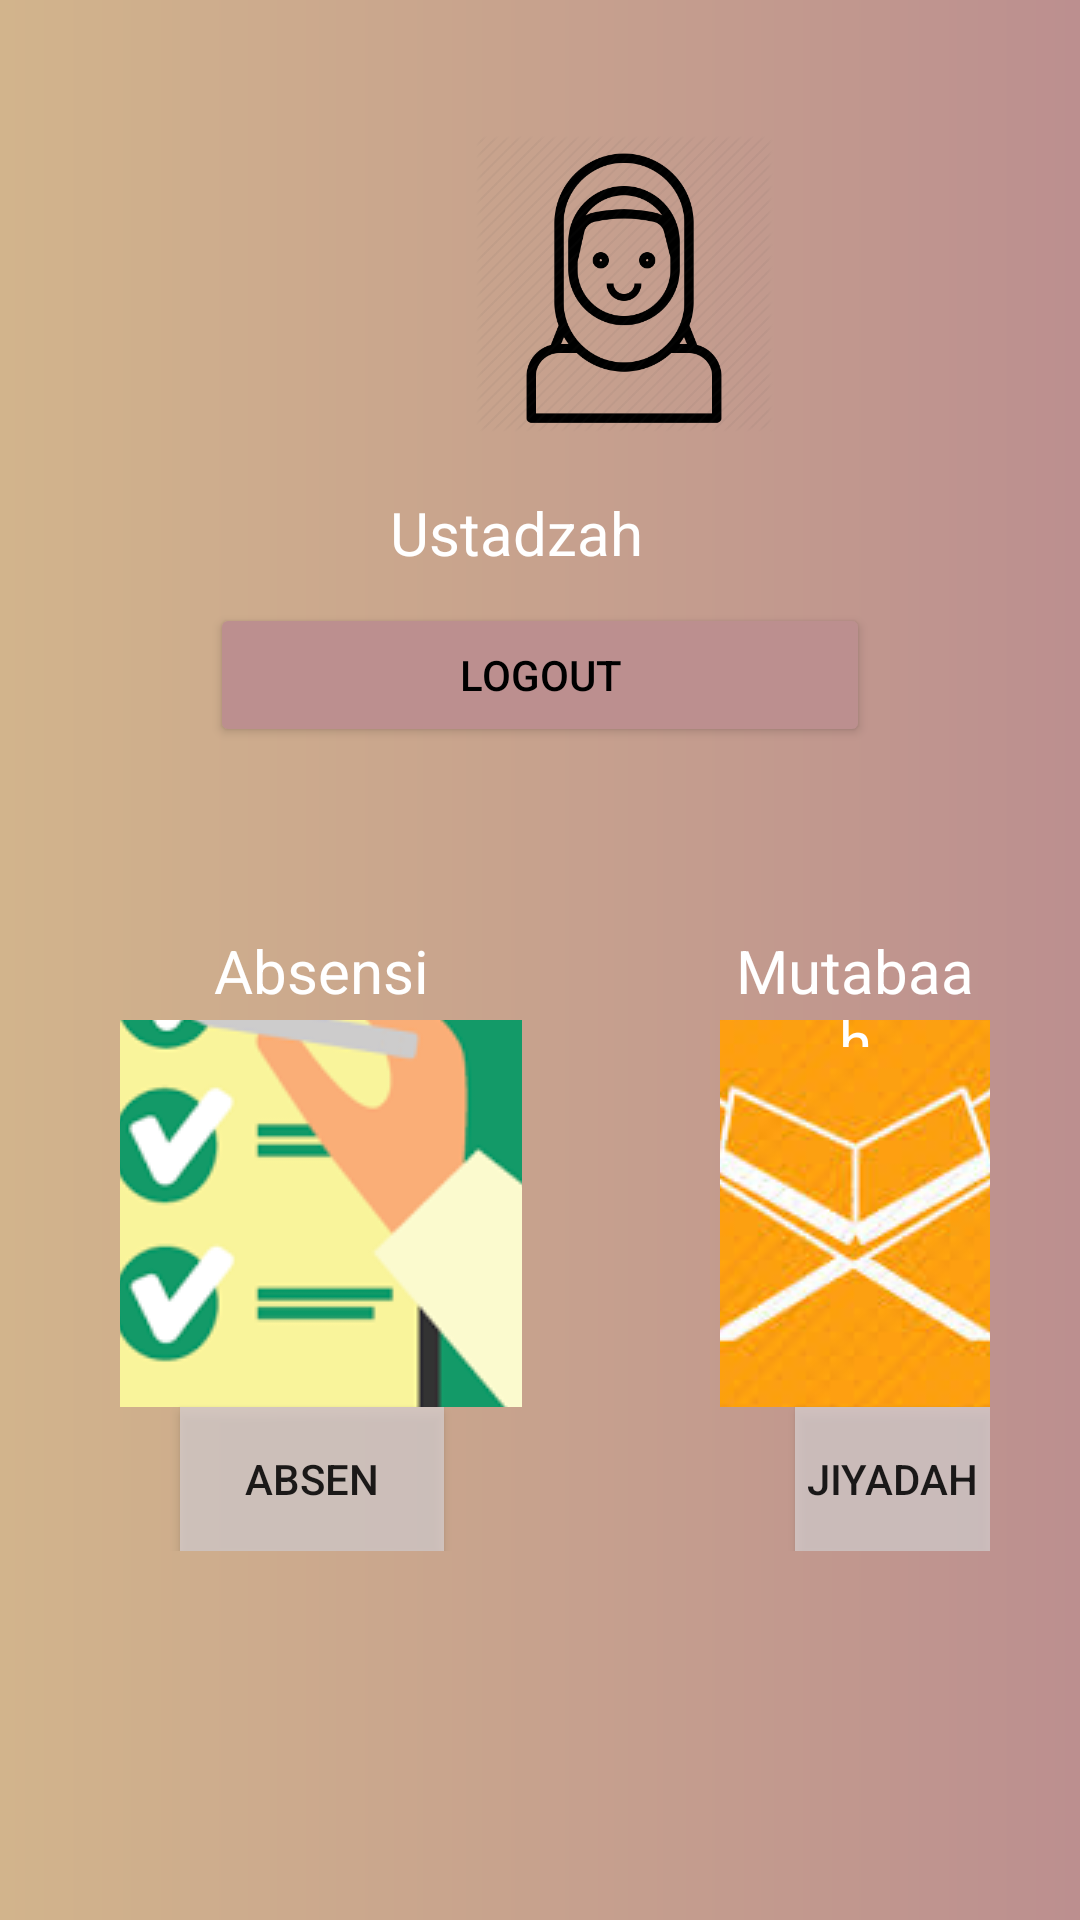

Icons on this 1080x1920 Android screen, each with the point to tap as (x,y):
user: (624,288)
